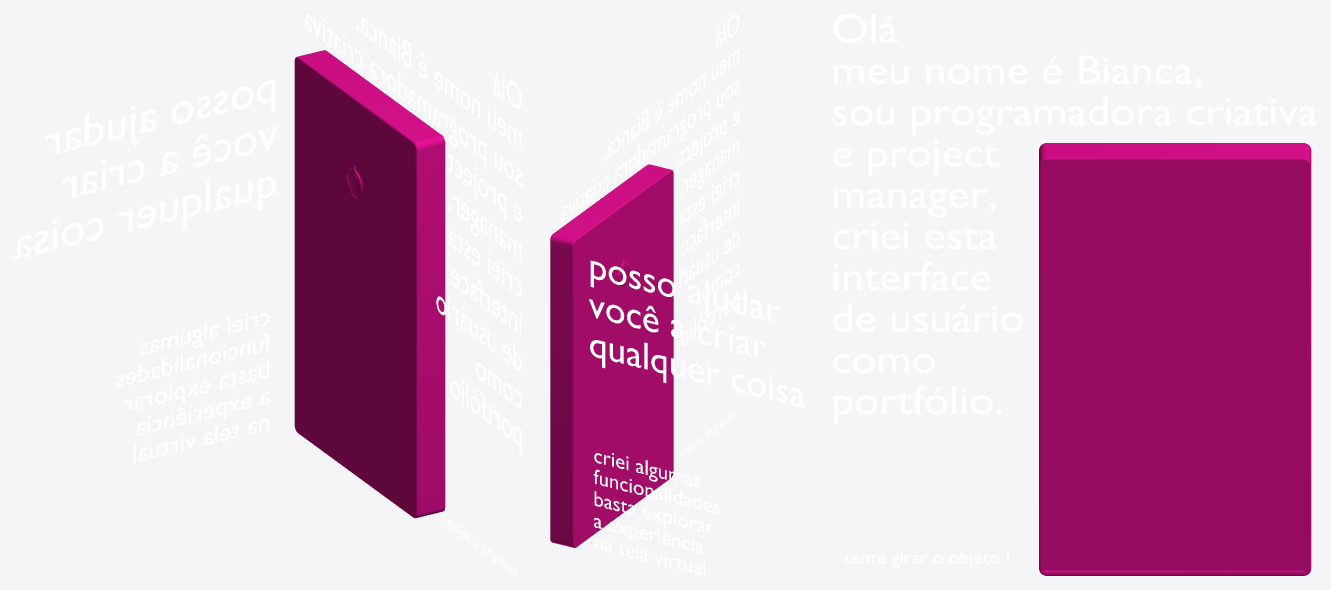
File: ipod.gltf
3 renders of one model, left to right at view 1: azimuth 30°, elevation 25°; view 2: azimuth 150°, elevation 25°; view 3: azimuth 270°, elevation 25°, orthographic. The views are drawn at different scales.
Visible parts, largest first — view 1: Cube, Text, Text.001, Text.003; view 2: Cube, Text, Text.001, Text.003; view 3: Cube, Text, Text.002.
Boxes of the visible parts, <box> form: Cube: <box>294,50,445,518</box>; Text: <box>304,14,521,455</box>; Text.001: <box>14,79,277,258</box>; Text.003: <box>116,312,269,462</box>; Cube: <box>550,164,673,547</box>; Text: <box>561,14,739,350</box>; Text.001: <box>589,260,804,407</box>; Text.003: <box>593,453,719,575</box>; Cube: <box>1039,143,1311,575</box>; Text: <box>833,14,1316,423</box>; Text.002: <box>845,551,1008,567</box>.
Size of the model in its own units: 1.73 by 2.65 by 2.1.
